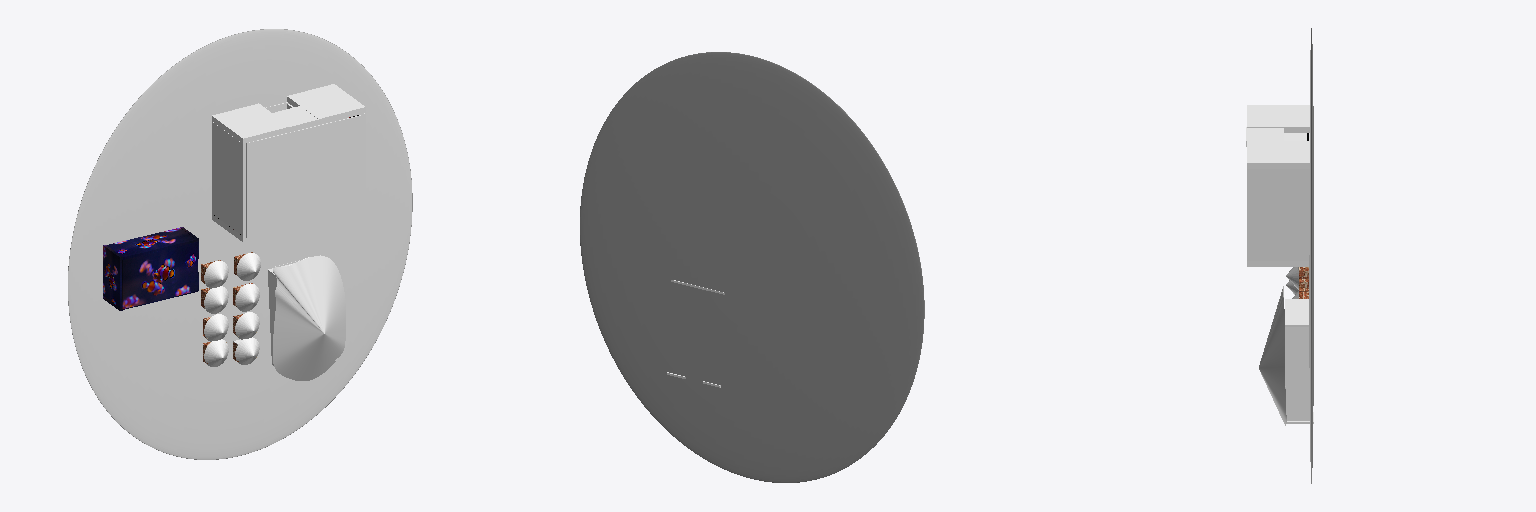
The picture shows the model from 3 angles: view 1: azimuth 30°, elevation 25°; view 2: azimuth 150°, elevation 25°; view 3: azimuth 270°, elevation 25°; orthographic projection.
Visible parts, largest first — view 1: Object.1, Object.76, Object.52, Object.108, Object.90, Object.94, Object.93, Object.100, Object.101, Object.14, Object.78, Object.77; view 2: Object.1; view 3: Object.91, Object.87, Object.52, Object.93, Object.1, Object.94, Object.85.
Boxes of the visible parts, x1,y1,x2,y2 form: Object.1: [68, 29, 412, 459]; Object.76: [246, 115, 361, 237]; Object.52: [273, 256, 345, 380]; Object.108: [122, 242, 197, 308]; Object.90: [212, 122, 245, 235]; Object.94: [212, 103, 289, 144]; Object.93: [287, 84, 365, 124]; Object.100: [107, 228, 195, 259]; Object.101: [103, 245, 122, 310]; Object.14: [273, 106, 318, 131]; Object.78: [237, 253, 260, 280]; Object.77: [235, 283, 259, 311]; Object.1: [580, 52, 924, 482]; Object.91: [1247, 169, 1309, 260]; Object.87: [1285, 327, 1309, 420]; Object.52: [1259, 286, 1286, 425]; Object.93: [1247, 141, 1309, 168]; Object.1: [1309, 28, 1313, 483]; Object.94: [1247, 105, 1309, 132]; Object.85: [1285, 299, 1308, 326].
Size of the model in its own units: 1973624 by 2313265 by 341663.
Materials: 14 (4 with a texture image).